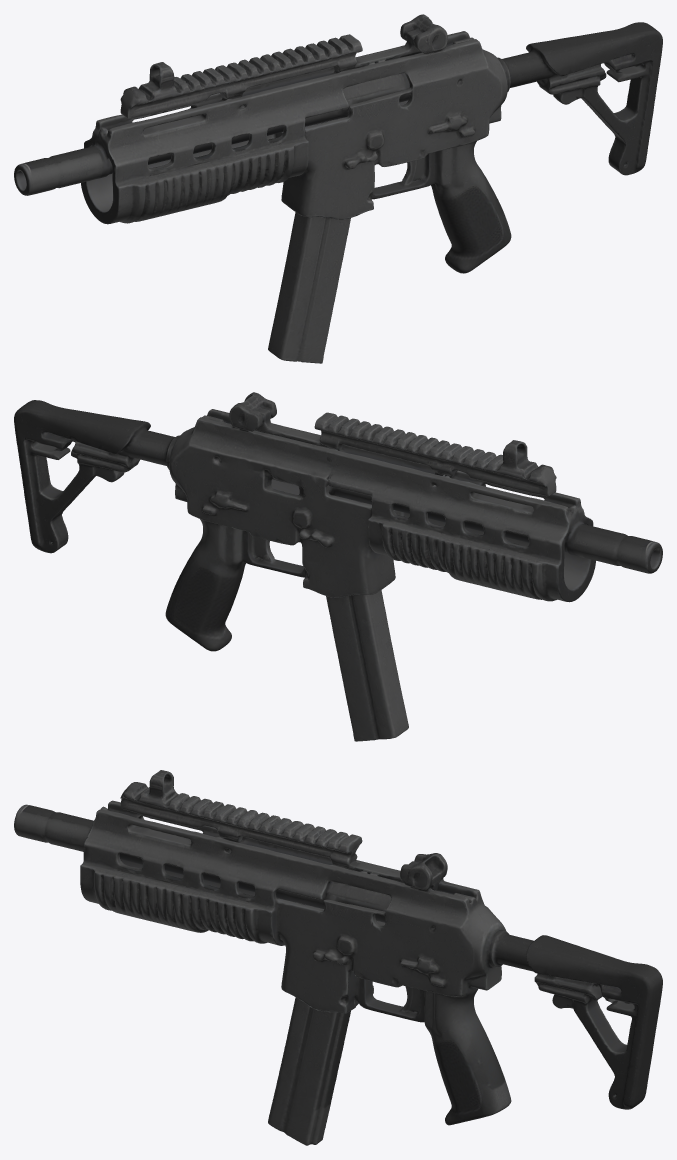
The model's file is fusil-pompe-tactique-pbr-v2.glb.
The picture shows the model from 3 angles, top to bottom: view 1: azimuth 30°, elevation 25°; view 2: azimuth 150°, elevation 25°; view 3: azimuth 330°, elevation 25°; orthographic projection.
Size of the model in its own units: 2 by 0.9951 by 0.2497.
1 material, 1 textured.
